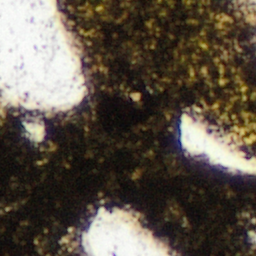cement_matrix: (0, 0, 255, 255), (24, 117, 45, 142)
gravel_crushed_stones: (0, 0, 87, 114), (179, 112, 255, 174), (79, 208, 175, 255), (25, 118, 44, 141), (237, 0, 255, 24), (252, 234, 255, 243)
